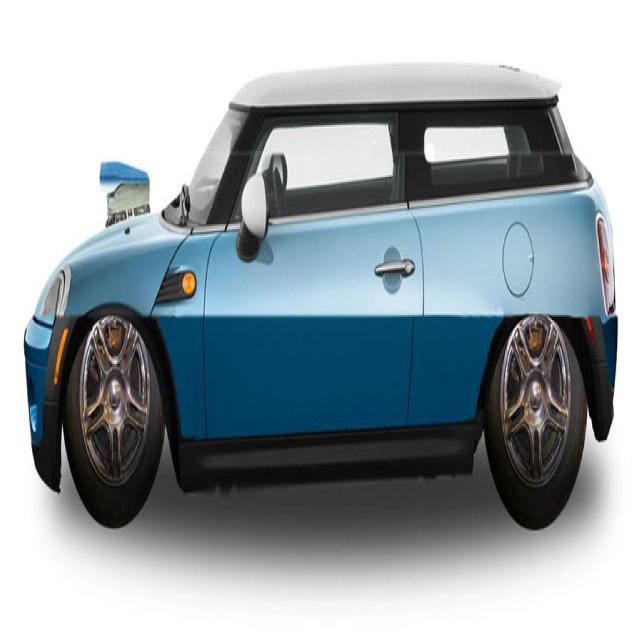car: (22, 59, 617, 530)
